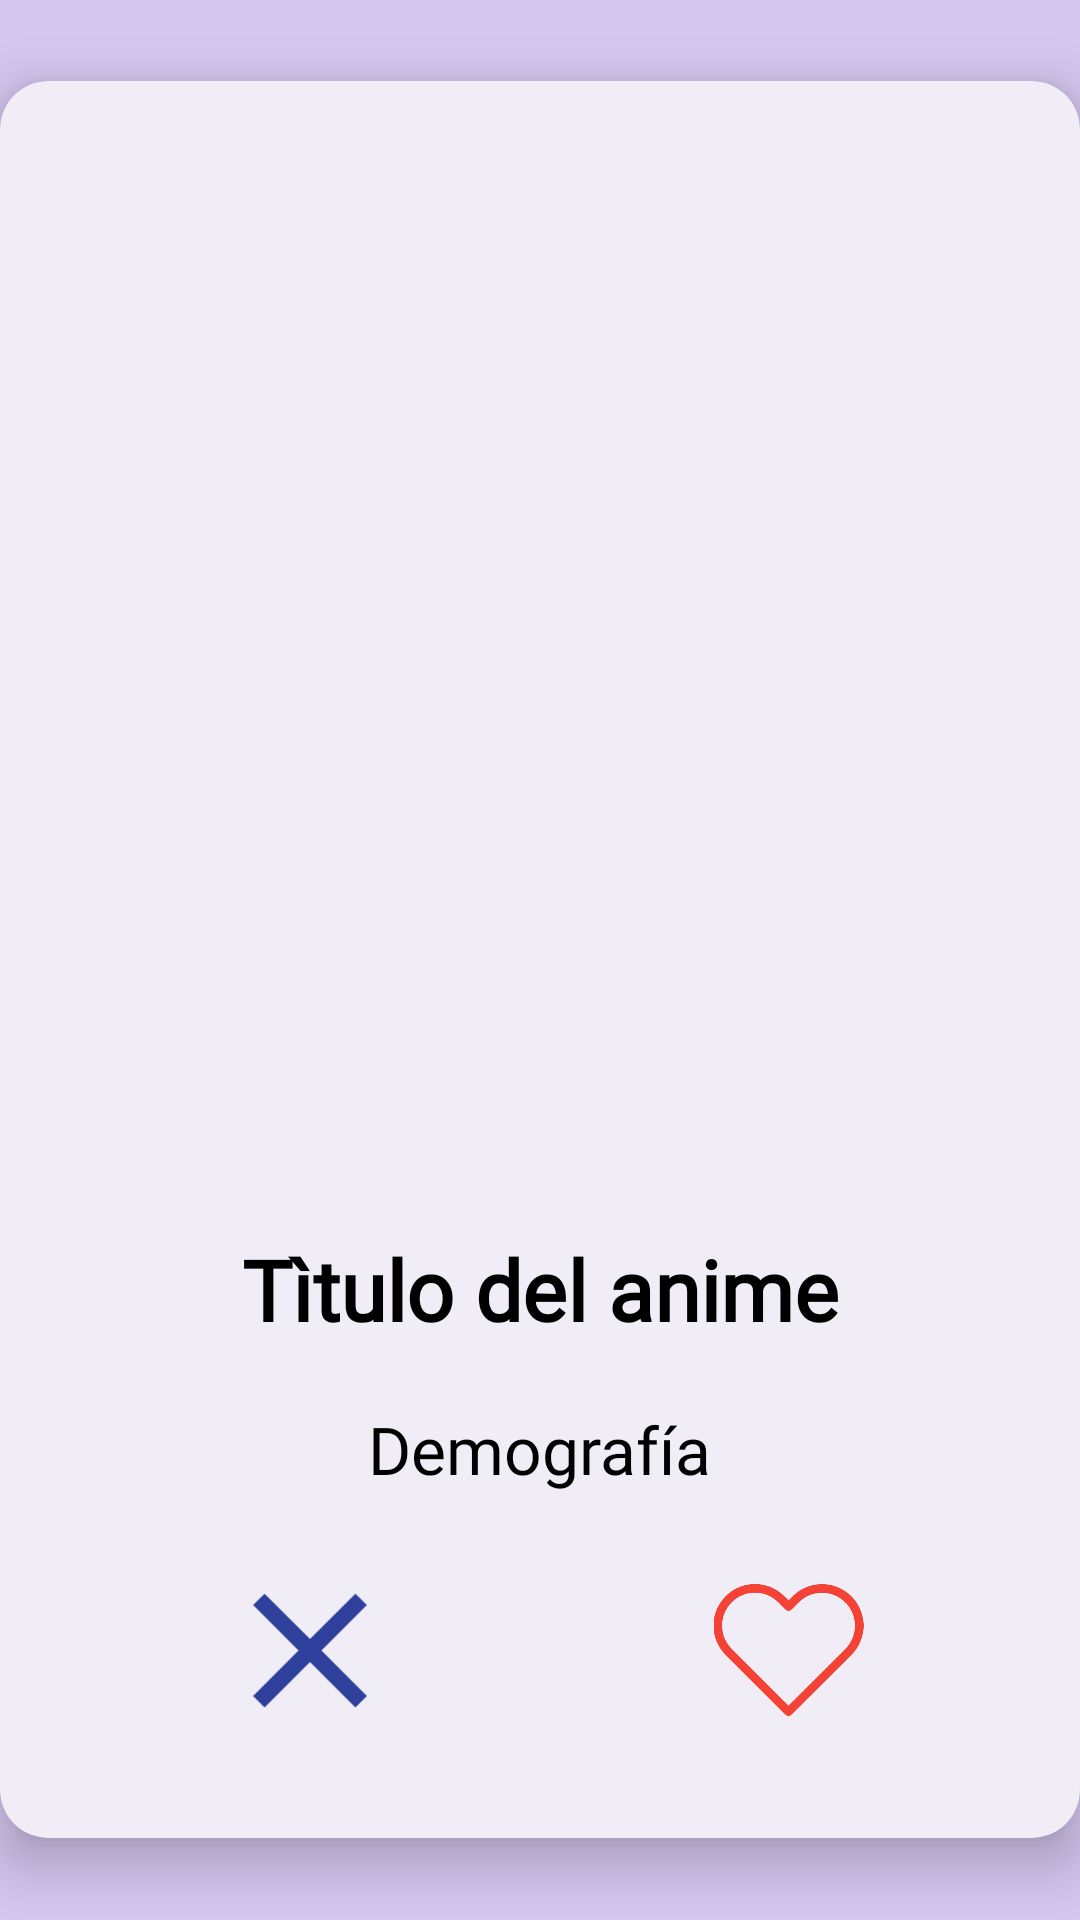

Where icons sit on this 1080px x 1920px app screen, as bbox=[x1, y1, x2, y2]:
close: bbox=[253, 1594, 367, 1708]
heart: bbox=[714, 1584, 864, 1716]
